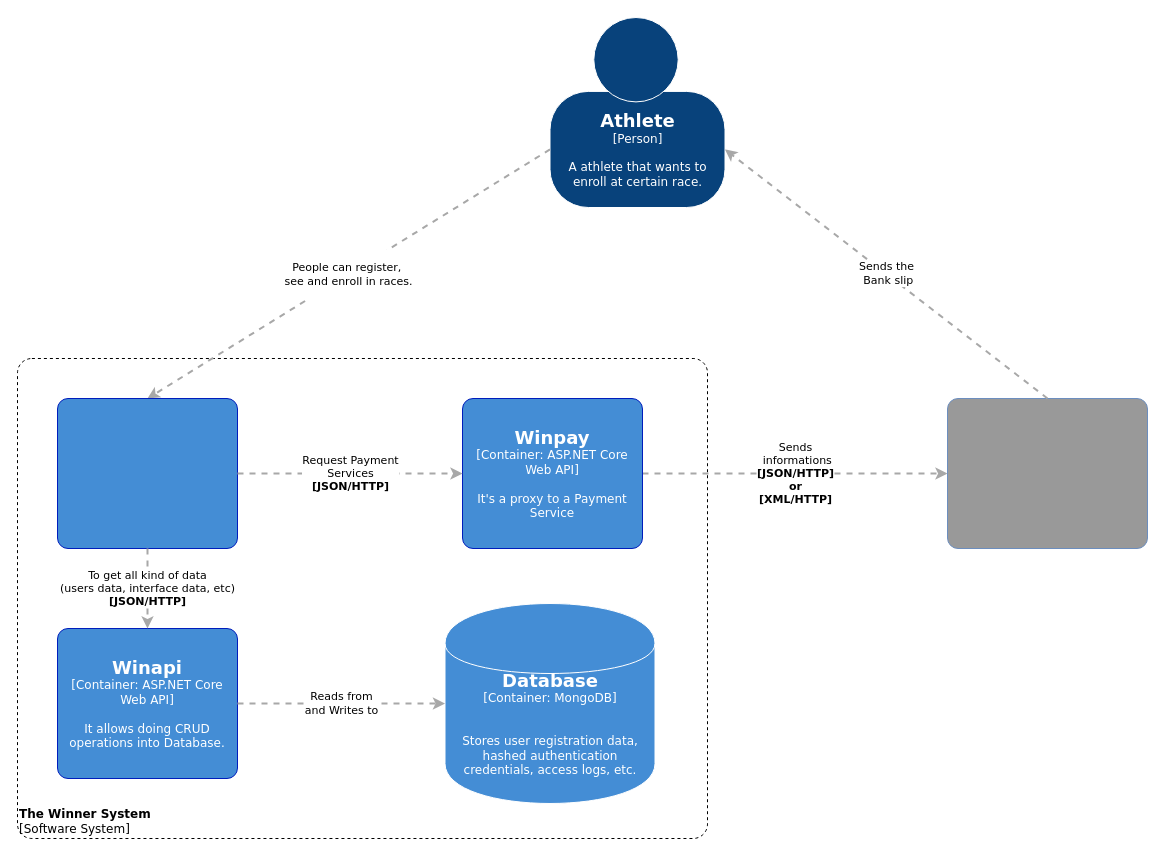
The diagram is 1165 pixels wide and 856 high, and some of its shapes have lost their labels. The centre of each missing label's shape, as x and y in pixels:
"Payment Service [Software System] Allows to generate Bank slip to users pay." belongs at pixel 1047 473.
"Winux [Container: ASP.NET Core MVC] The System Web interface" belongs at pixel 147 473.
